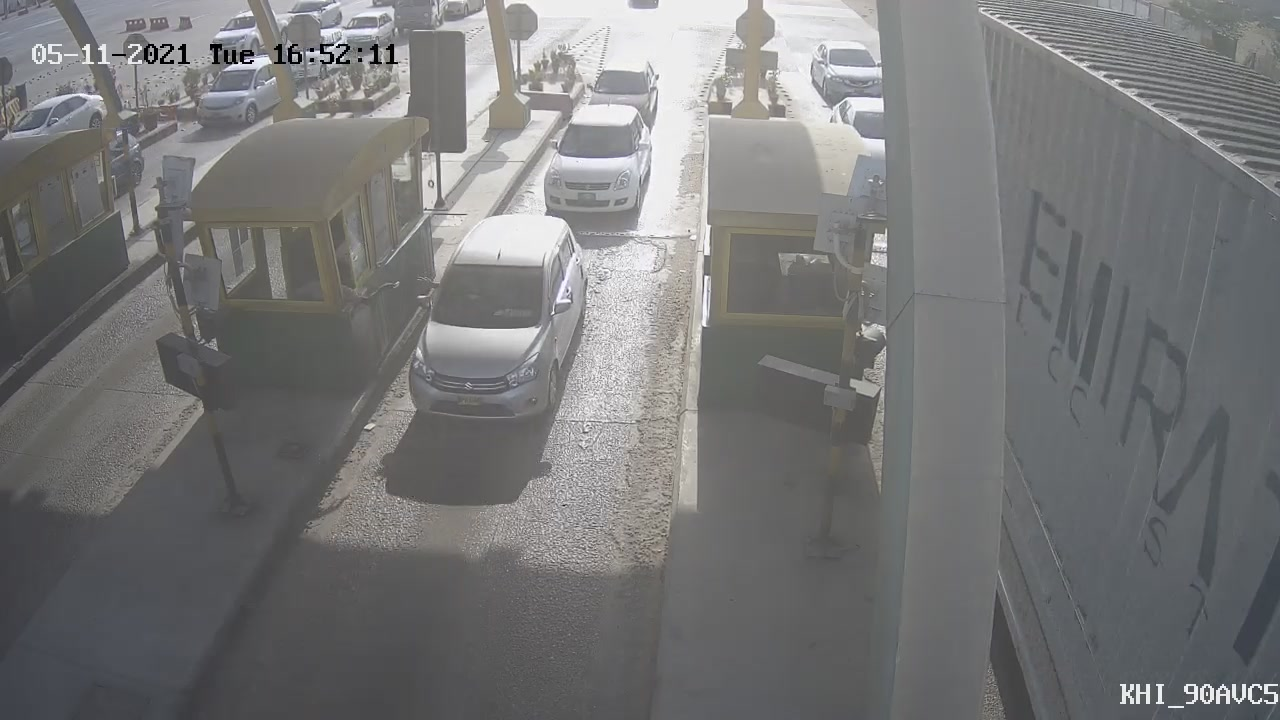F1: (381, 198, 612, 440), (521, 86, 670, 227)
